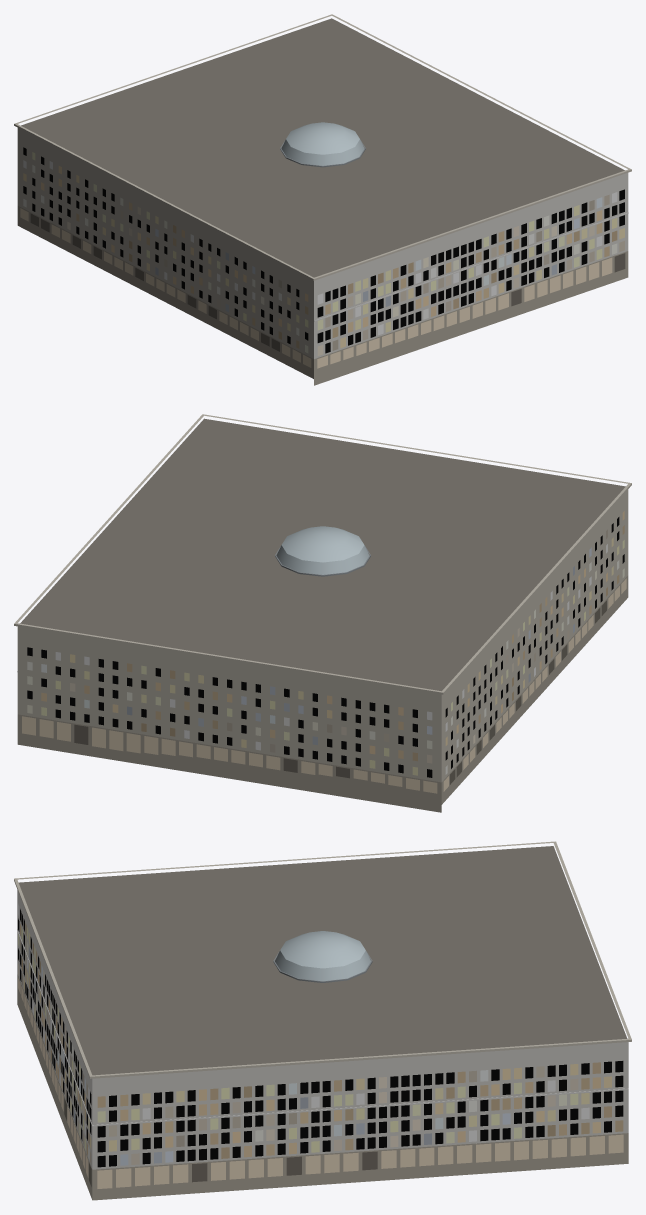
File: library_lod1.glb
3 views of the same model, one above another, from view 1: azimuth 30°, elevation 25°; view 2: azimuth 150°, elevation 25°; view 3: azimuth 270°, elevation 25° (orthographic). The views are drawn at different scales.
Parts seen in each view (by area): view 1: L1_roof, L1_granite, L1_win, L1_concrete, L1_shop, L1_glassc; view 2: L1_roof, L1_granite, L1_win, L1_shop, L1_glassc; view 3: L1_roof, L1_concrete, L1_win, L1_granite, L1_shop, L1_glassc.
Boxes of the visible parts, box(x1,y1,x2,y2) form: L1_roof: box(21, 18, 624, 277); L1_granite: box(14, 14, 631, 385); L1_win: box(23, 147, 624, 355); L1_concrete: box(314, 173, 628, 358); L1_shop: box(20, 208, 625, 368); L1_glassc: box(281, 122, 364, 165); L1_roof: box(20, 418, 625, 691); L1_granite: box(14, 414, 631, 812); L1_win: box(27, 511, 624, 777); L1_shop: box(22, 578, 626, 793); L1_glassc: box(276, 526, 369, 574); L1_roof: box(19, 846, 627, 1075); L1_concrete: box(17, 890, 628, 1169); L1_win: box(18, 903, 623, 1167); L1_granite: box(14, 841, 631, 1200); L1_shop: box(18, 977, 623, 1188); L1_glassc: box(275, 931, 370, 981).
Size of the model in its own units: 149 by 43.29 by 166.
